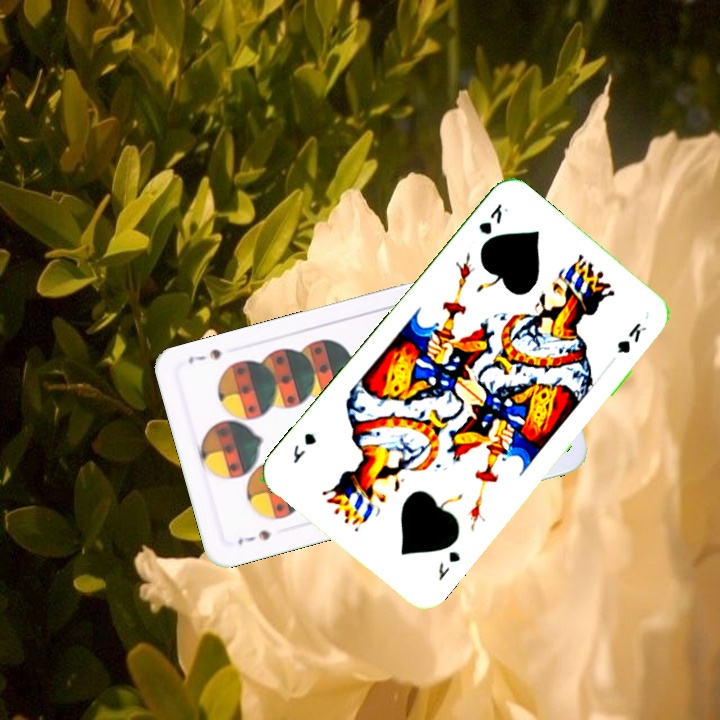GK: (474, 199, 511, 238), (434, 547, 463, 584)
S7: (233, 526, 273, 548)
